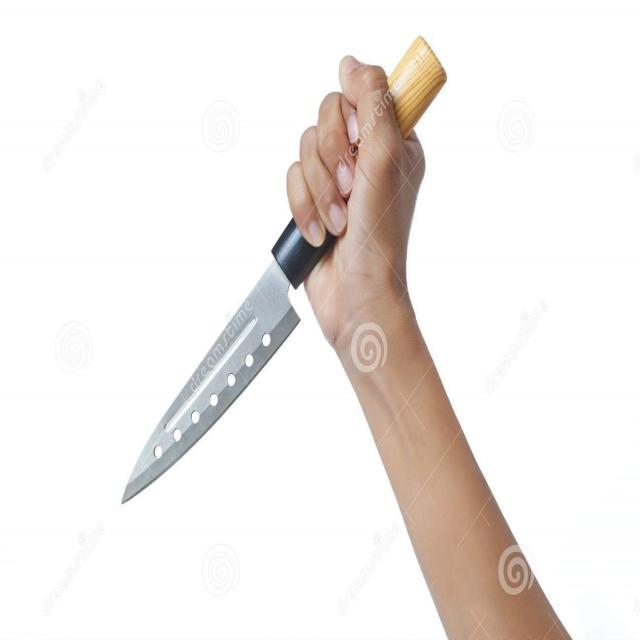knife: (119, 29, 452, 513)
